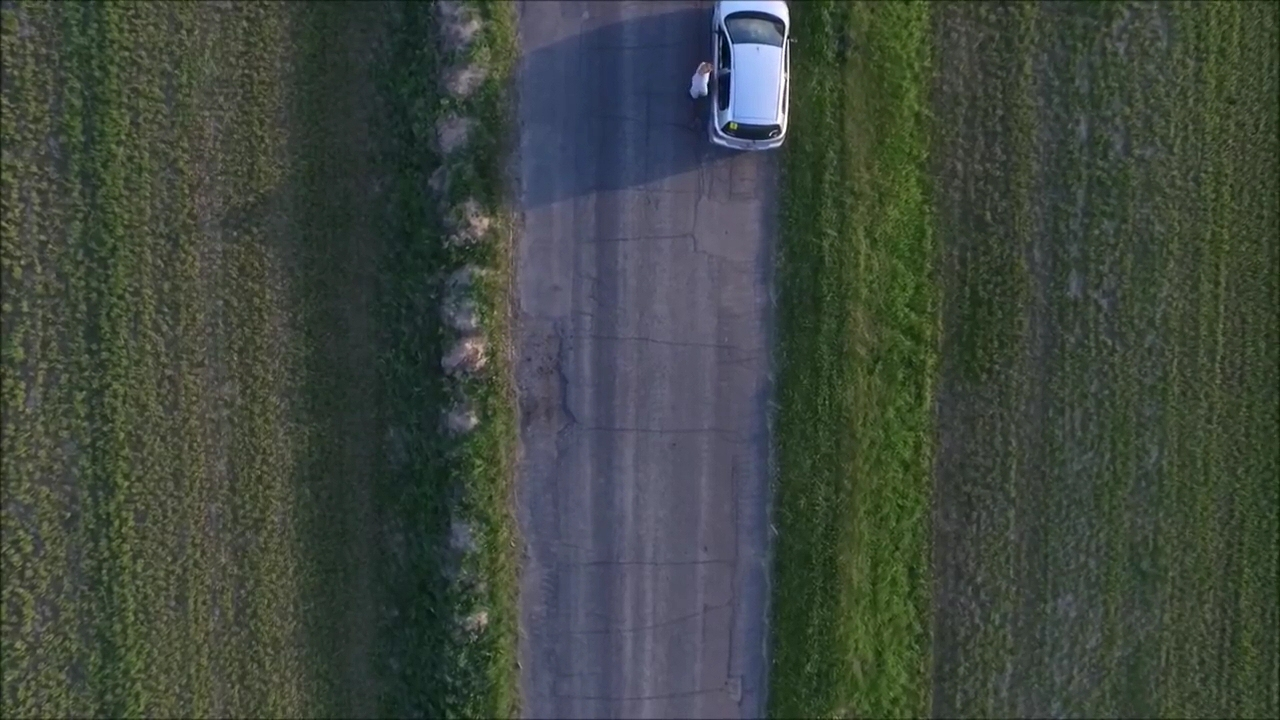araba: (713, 1, 797, 158)
insan: (690, 60, 714, 103)
